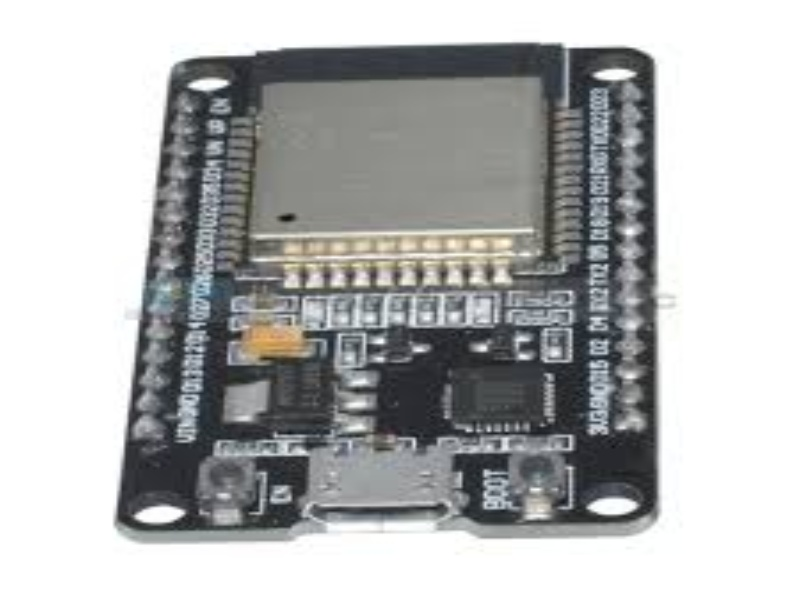esp32: (118, 38, 673, 550)
